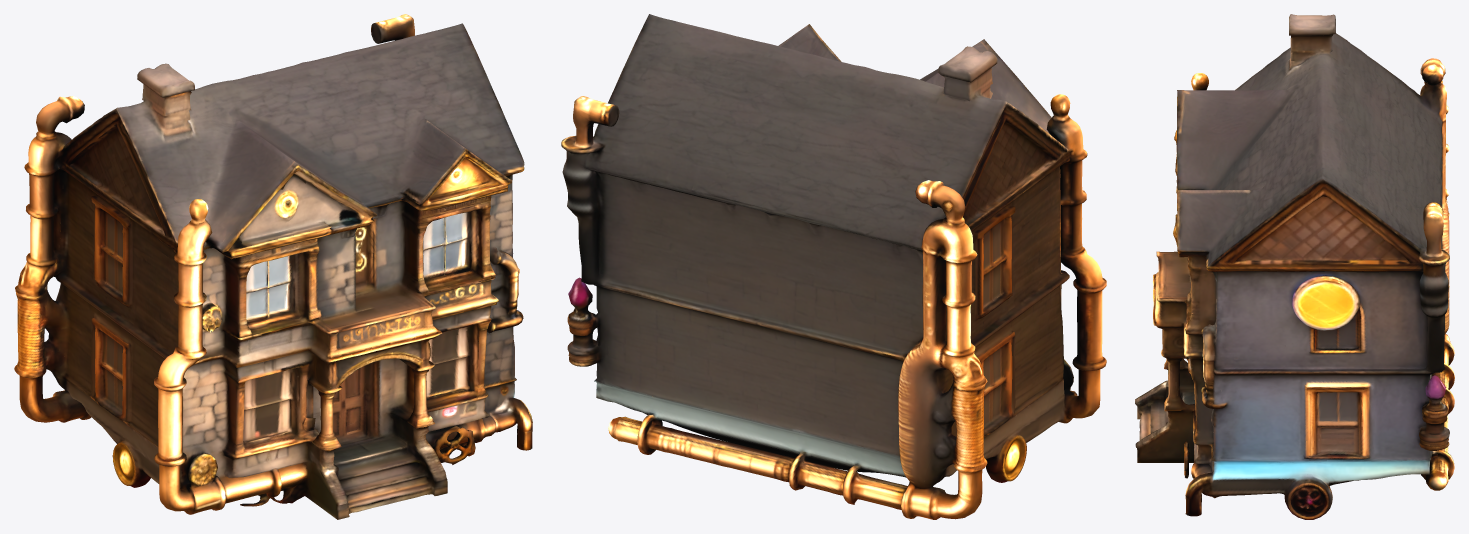
Rendered from steampunk_house.glb.
3 renders of one model, left to right at view 1: azimuth 30°, elevation 25°; view 2: azimuth 150°, elevation 25°; view 3: azimuth 270°, elevation 25°, orthographic. The views are drawn at different scales.
Parts seen in each view (by area): view 1: model; view 2: model; view 3: model.
Boxes of the visible parts, box(x1,y1,x2,y2) form: model: box(14, 14, 532, 519); model: box(561, 14, 1106, 519); model: box(1135, 14, 1454, 519).
Size of the model in its own units: 1.83 by 1.73 by 1.36.
1 material, 1 textured.
